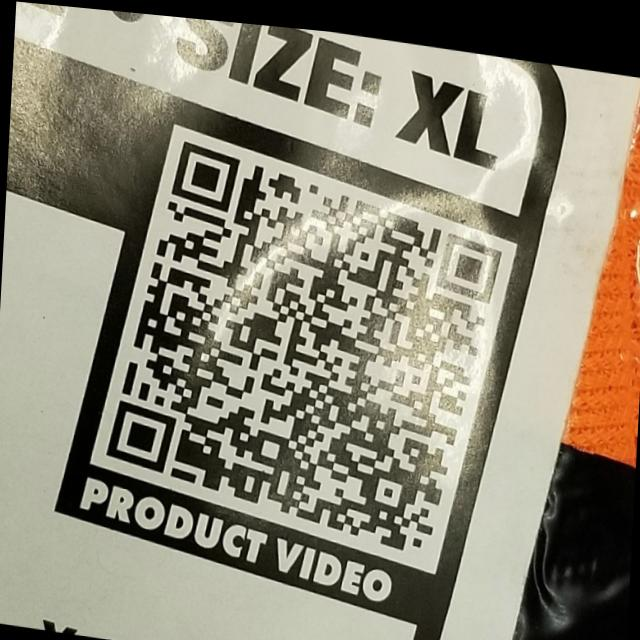QR_CODE: (92, 110, 528, 570)
